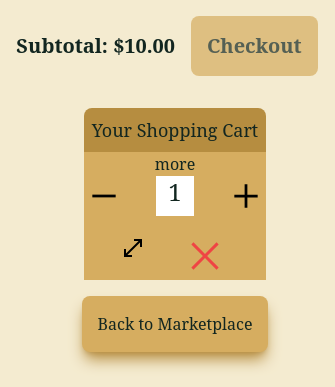
Test case: Cart increments and decrements itemsAmount and adjusts price accordingly › Item price is added to current total when pressing the increment button
The width and height of the screenshot is (335, 387).
expect the text with test id "totalPrice" reads "$10.00": met, box [113,32,175,59]
Click the button named "increment.more".
click(246, 196)  # box [226,176,266,216]
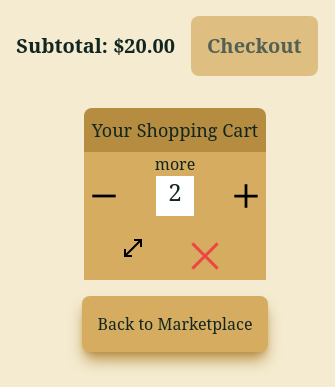
expect the text with test id "totalPrice" reads "$20.00": met, box [113,32,175,59]
Click the button named "increment.more".
click(246, 196)  # box [226,176,266,216]
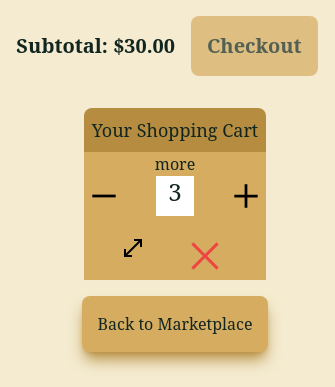
Click the button named "increment.more".
click(246, 196)  # box [226,176,266,216]
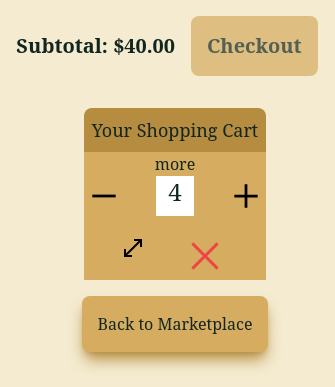
expect the text with test id "totalPrice" reads "$40.00": met, box [113,32,175,59]
